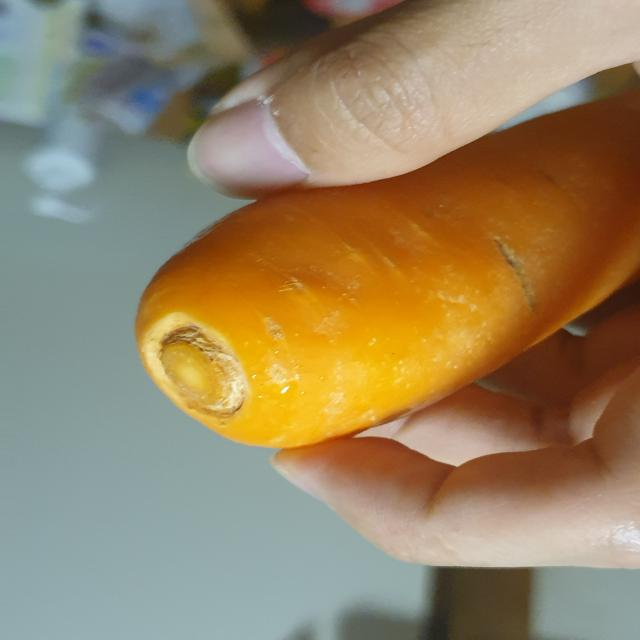Carrot: (121, 81, 640, 464)
